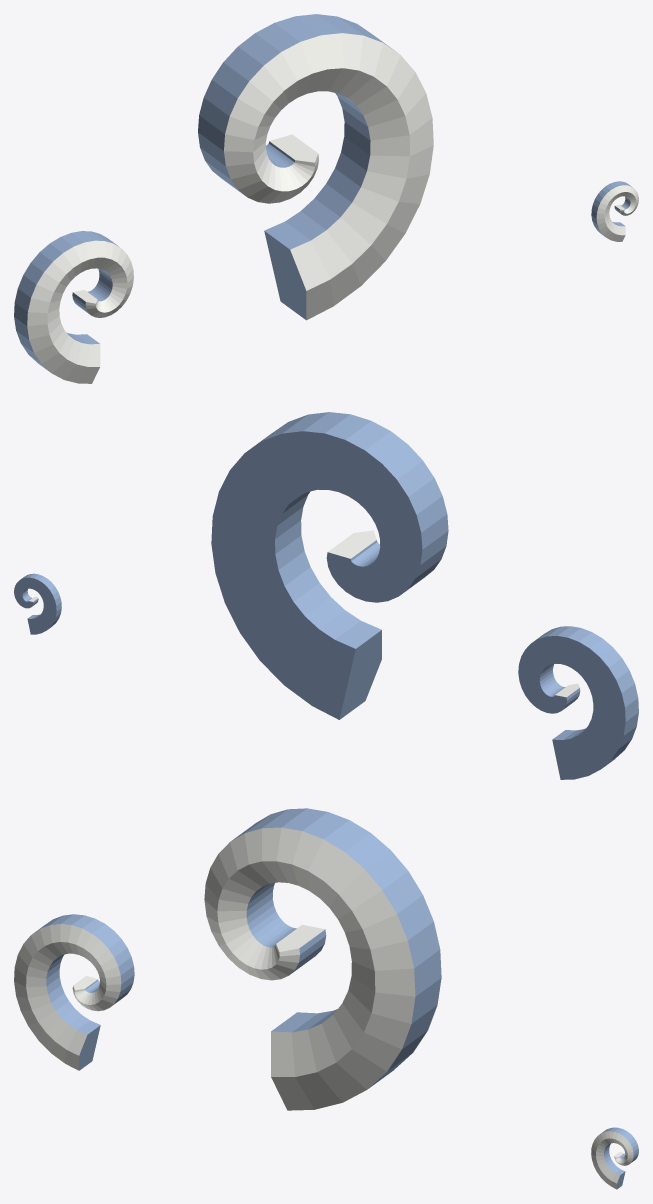
The picture shows the model from 3 angles, top to bottom: view 1: azimuth 30°, elevation 25°; view 2: azimuth 150°, elevation 25°; view 3: azimuth 330°, elevation 25°; orthographic projection.
Parts seen in each view (by area): view 1: 正面独立立体纸卷.001; view 2: 正面独立立体纸卷.001; view 3: 正面独立立体纸卷.001.
Boxes of the visible parts, x1,y1,x2,y2 form: 正面独立立体纸卷.001: (14,14,638,383); 正面独立立体纸卷.001: (14,412,638,779); 正面独立立体纸卷.001: (14,808,638,1189).
Size of the model in its own units: 2.72 by 1.26 by 0.2622.
